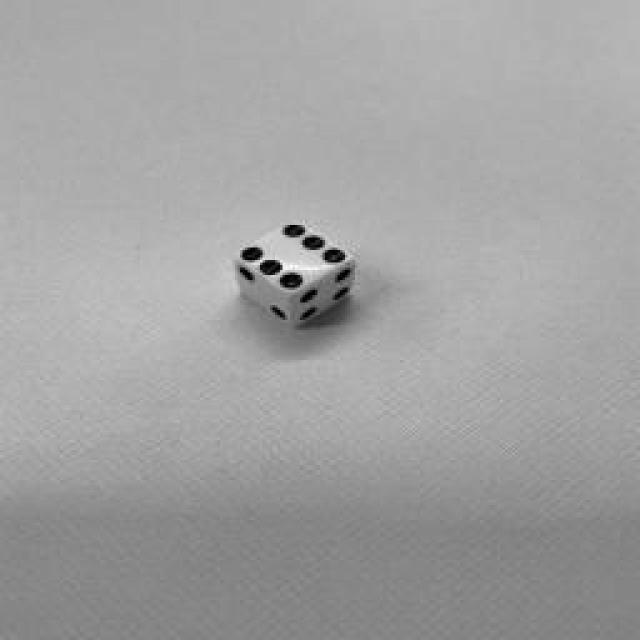dice_6: (233, 220, 355, 295)
